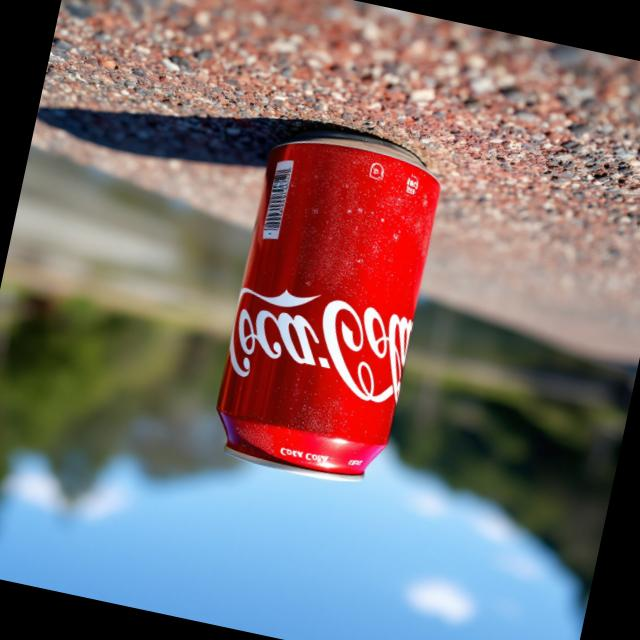cocacola: (200, 110, 460, 495)
